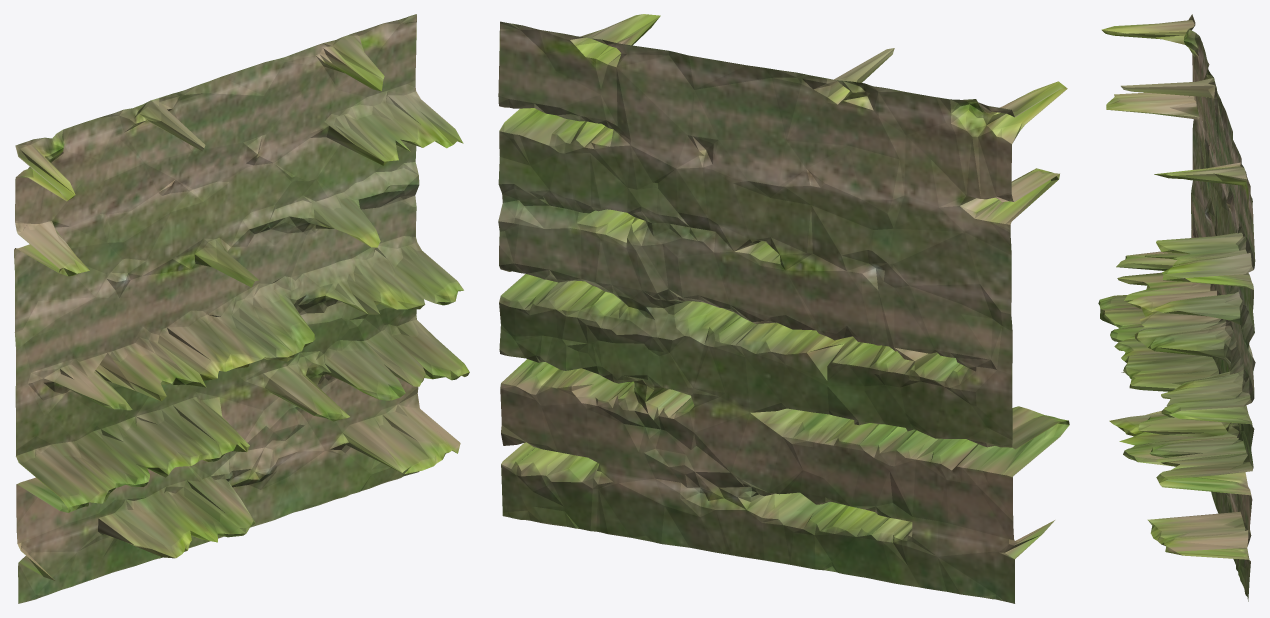
File: map_130_50.obj
The picture shows the model from 3 angles, left to right: view 1: azimuth 30°, elevation 25°; view 2: azimuth 150°, elevation 25°; view 3: azimuth 270°, elevation 25°; orthographic projection. The views are drawn at different scales.
Parts seen in each view (by area): view 1: grp1; view 2: grp1; view 3: grp1.
Part boxes in pixels (x1,y1,x2,y2): grp1: (14,14,469,603); grp1: (498,14,1069,603); grp1: (1098,14,1255,601).
Size of the model in its own units: 10 by 10 by 3.54.
1 material, 1 textured.
